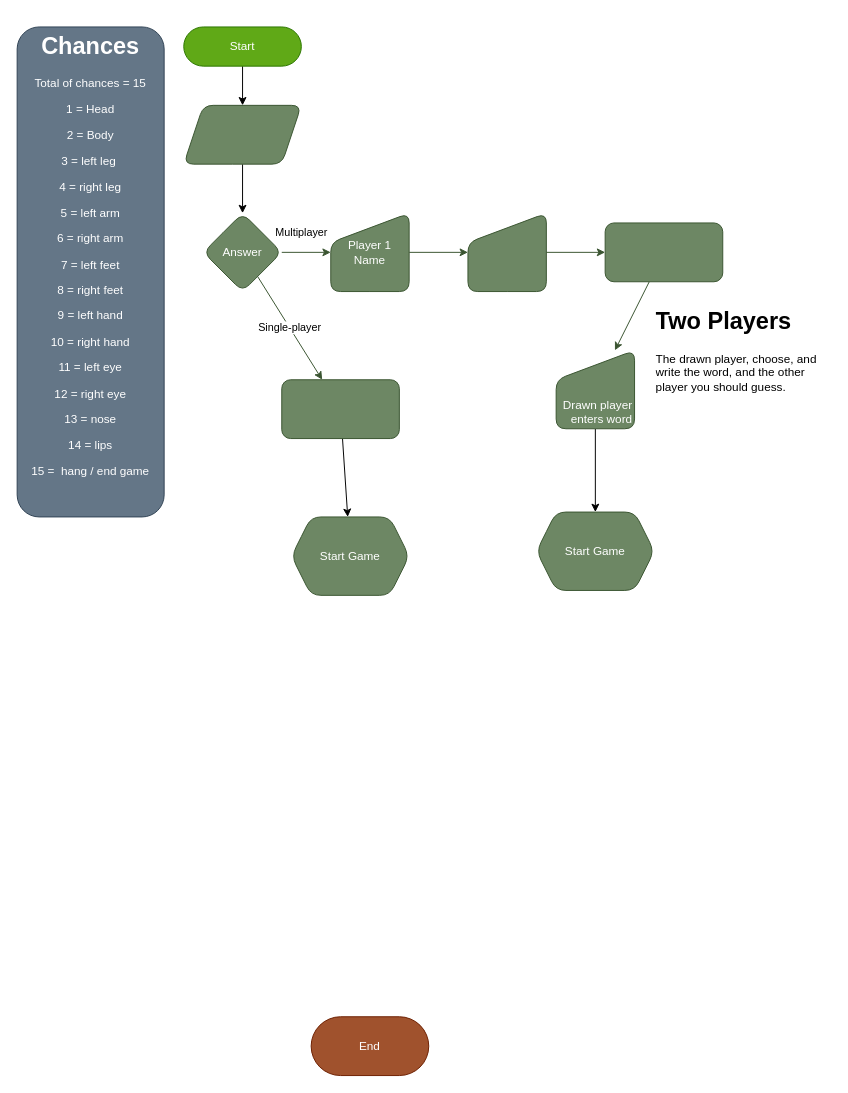
Image size: 848x1093. Some labels were removed from this diagram. Here are the shapes that lost their labels. From the top down, the box of each, then its label:
(183, 104, 301, 164): Single player? or Multiplayer?
(467, 212, 546, 292): Player 2 Name
(604, 222, 723, 282): raffle player
(281, 379, 399, 439): randomize in the Array() or List() the word
